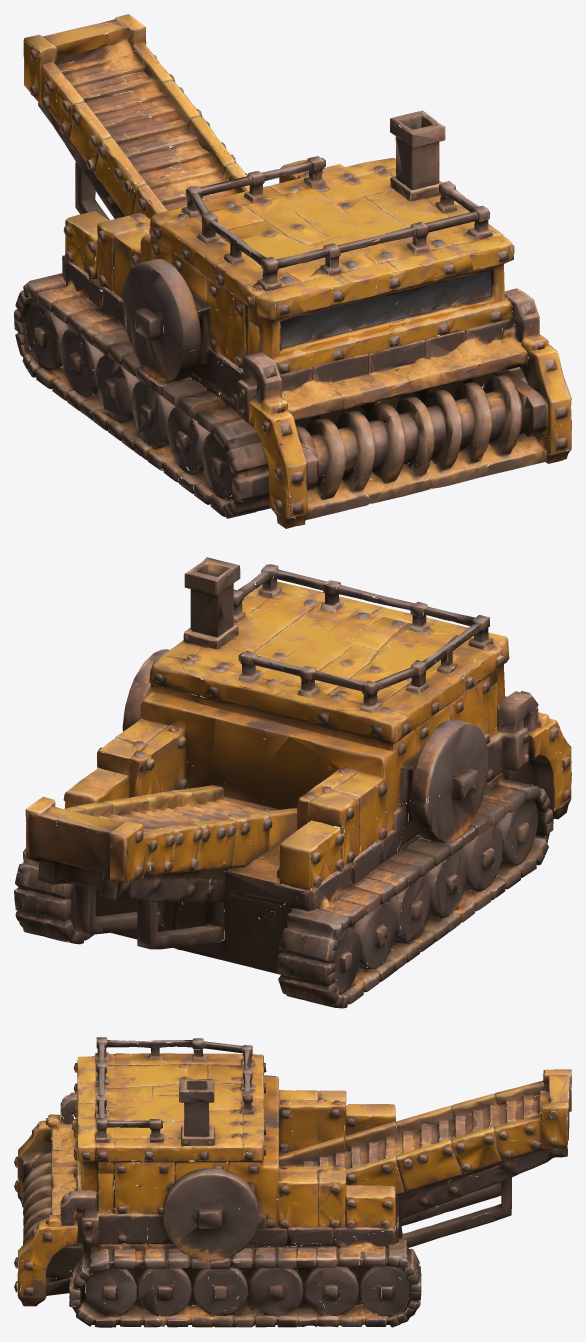
The model's file is dredge.glb.
3 views of the same model, one above another, from view 1: azimuth 30°, elevation 25°; view 2: azimuth 150°, elevation 25°; view 3: azimuth 270°, elevation 25° (orthographic). The views are drawn at different scales.
Visible parts, largest first — view 1: tripo_node_5403c73a-dc87-4f2d-827d-21b8ce59a937; view 2: tripo_node_5403c73a-dc87-4f2d-827d-21b8ce59a937; view 3: tripo_node_5403c73a-dc87-4f2d-827d-21b8ce59a937.
Boxes of the visible parts, box(x1,y1,x2,y2) form: tripo_node_5403c73a-dc87-4f2d-827d-21b8ce59a937: box(14, 14, 571, 528); tripo_node_5403c73a-dc87-4f2d-827d-21b8ce59a937: box(14, 557, 571, 1008); tripo_node_5403c73a-dc87-4f2d-827d-21b8ce59a937: box(14, 1037, 571, 1327).
Size of the model in its own units: 0.5186 by 0.4314 by 0.9816.
Materials: 1 (1 with a texture image).
